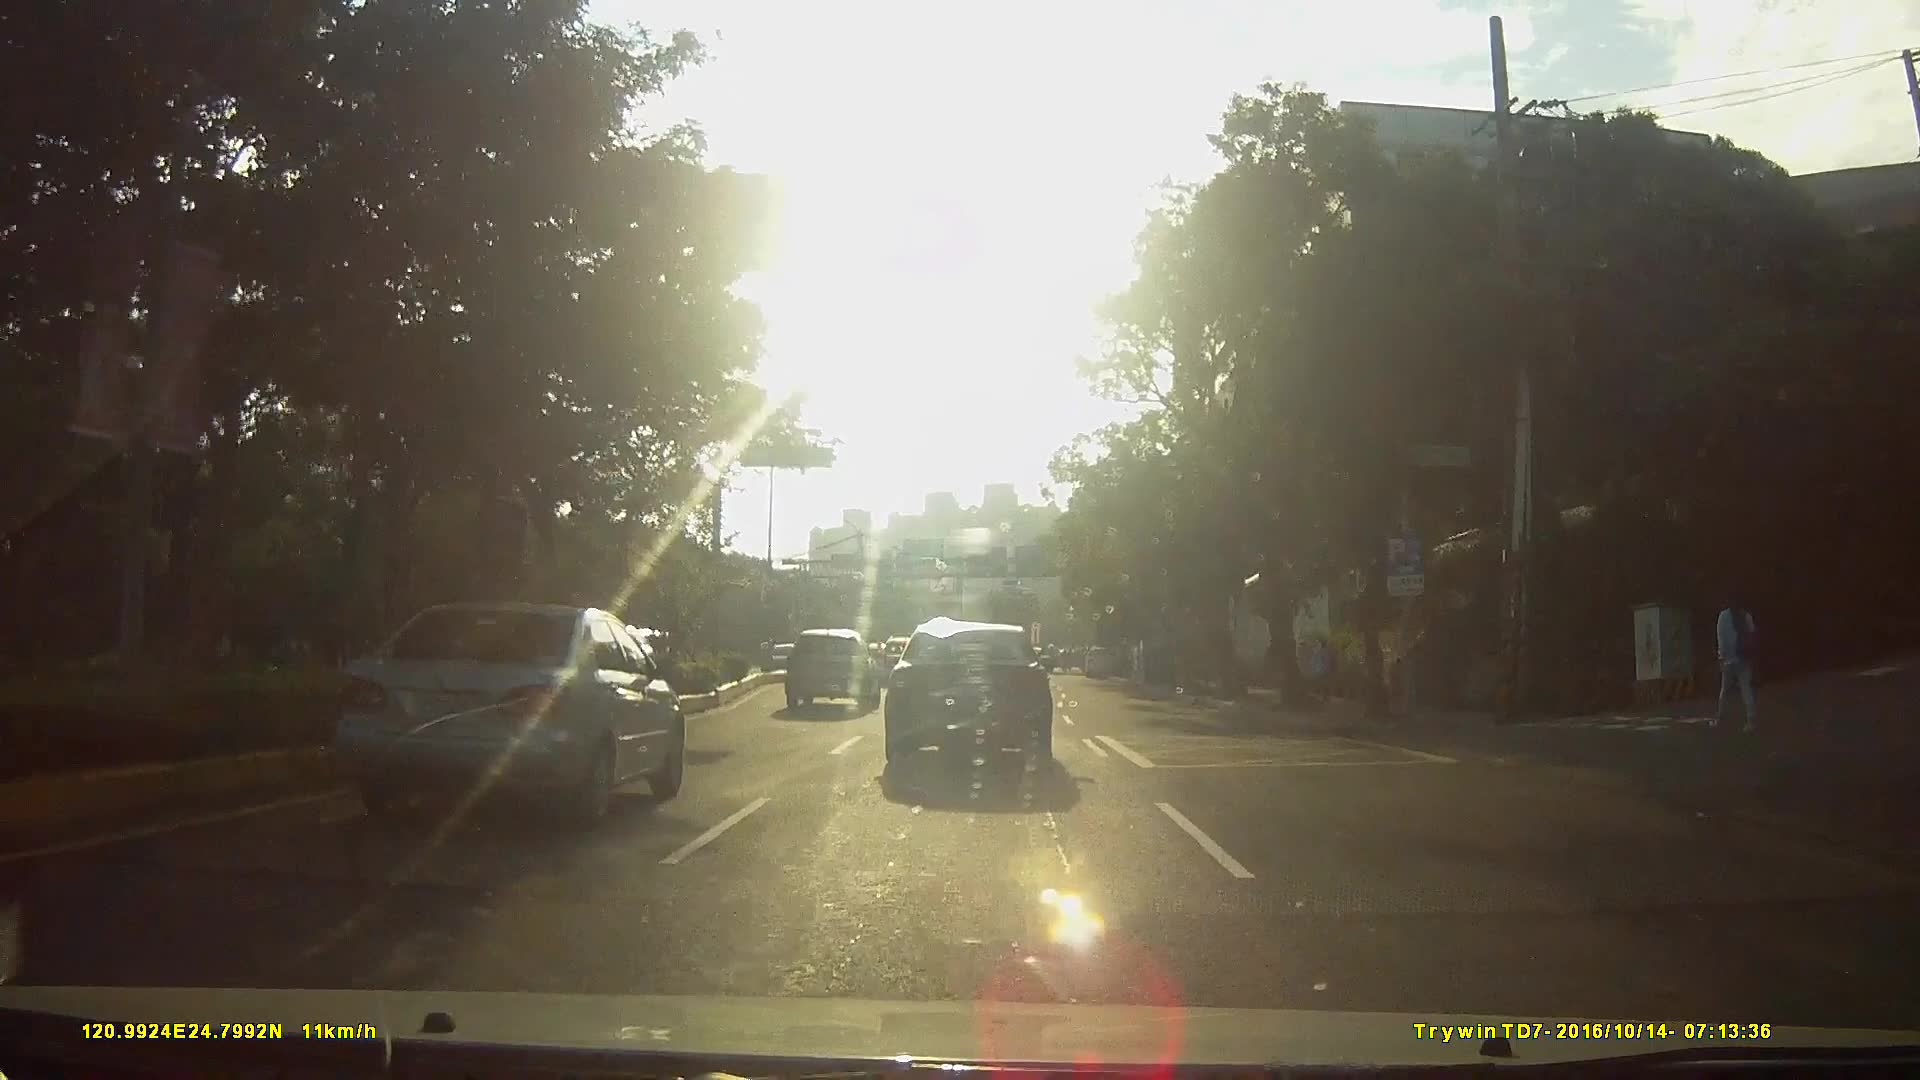pedestrian: (1707, 577, 1771, 738)
vehicle: (340, 599, 685, 820), (872, 617, 1066, 780), (780, 623, 880, 708), (749, 639, 792, 671), (1079, 642, 1114, 676)
